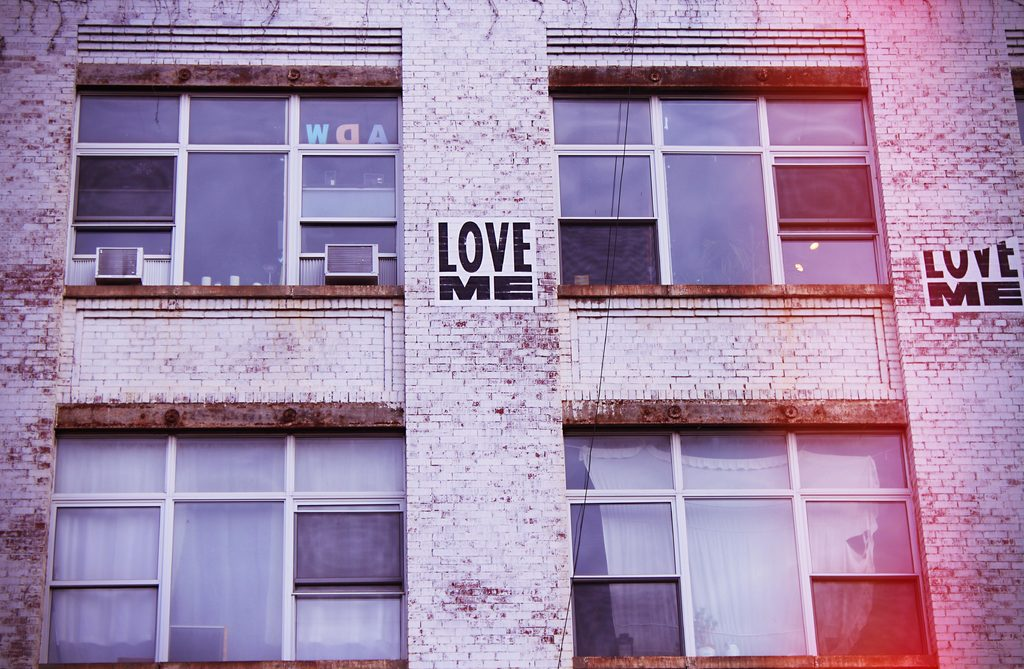Window: (562, 400, 941, 668), (33, 398, 410, 666), (547, 29, 891, 302), (65, 26, 406, 294)
